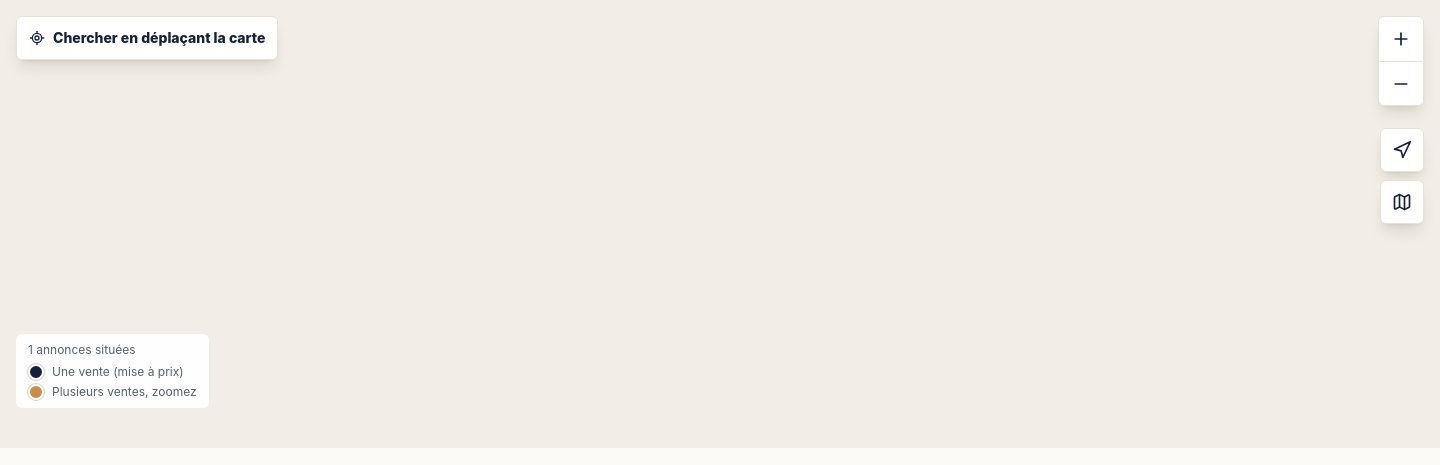
Test: public map resilience › offers an explicit viewport search after a manual map movement
Click the button named "Zoomer" at {"x": 1401, "y": 39}, box x1=1379 y1=17 x2=1423 y2=61
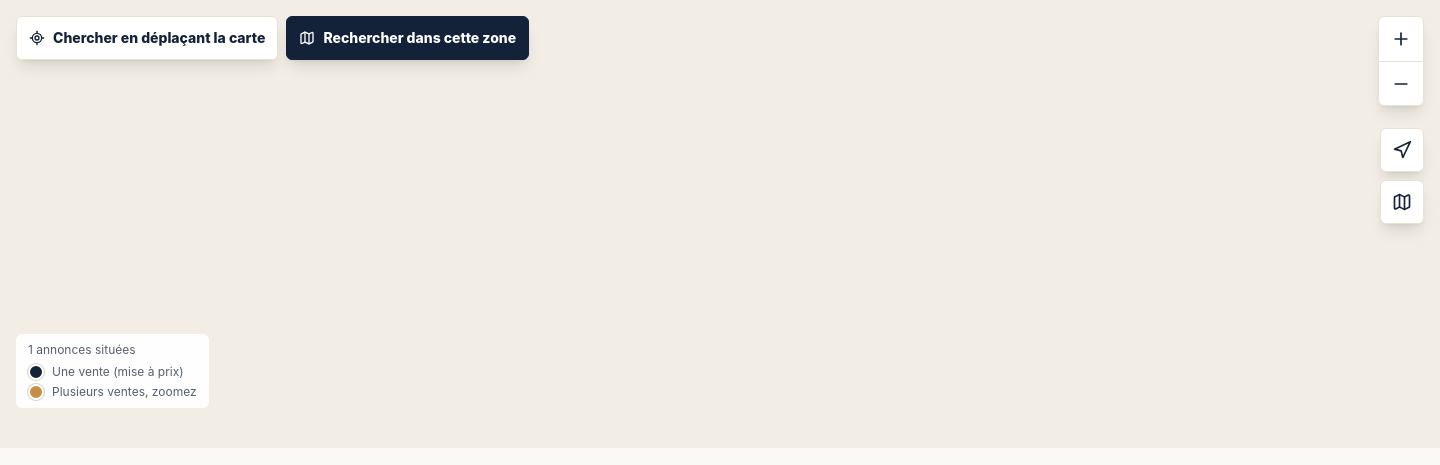
Now the button with test id "search-map-viewport" reads "Rechercher dans cette zone"
Click the button with test id "search-map-viewport" at {"x": 408, "y": 38}, box x1=286 y1=16 x2=529 y2=60
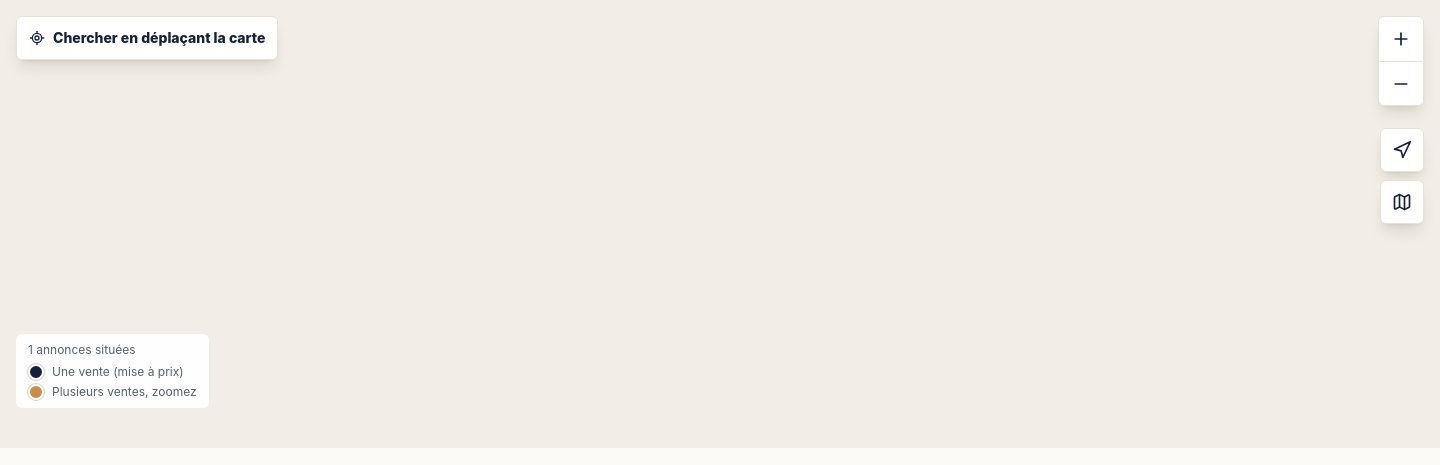
Now the button with test id "search-map-viewport" is gone
